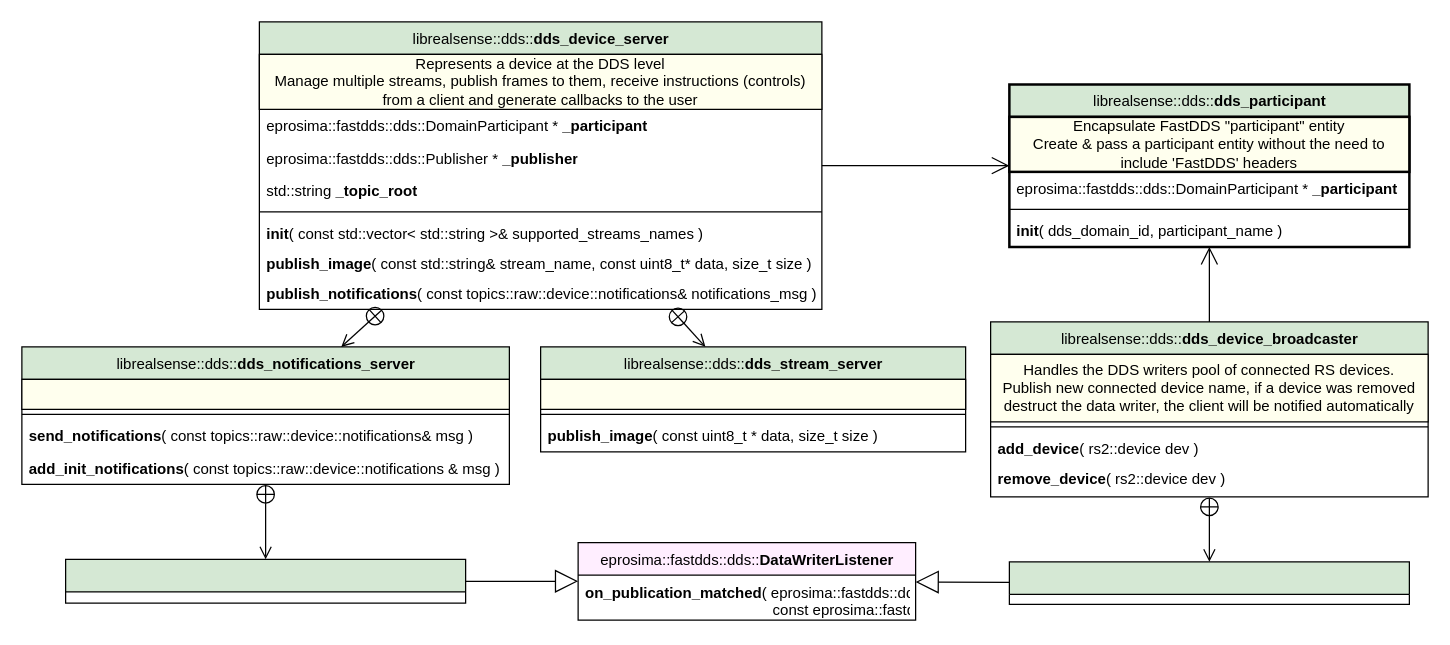
Some shapes in this 1450 by 645 pixel diagram are drawn without their labels. Each missing label, with the centre of its shape:
Distributes the relevant stream frames into it's dedicated topic: [752,393]
librealsense::dds:: dds_client_listener: [1208,582]
librealsense::dds:: dds_notifications_client_listener: [265,580]
Publishes notifications and info like streams, profiles, events: [265,393]
